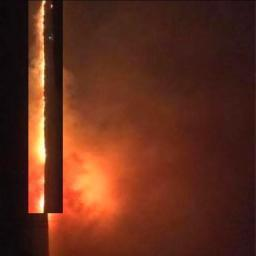Medium fire: (18, 1, 94, 246)
